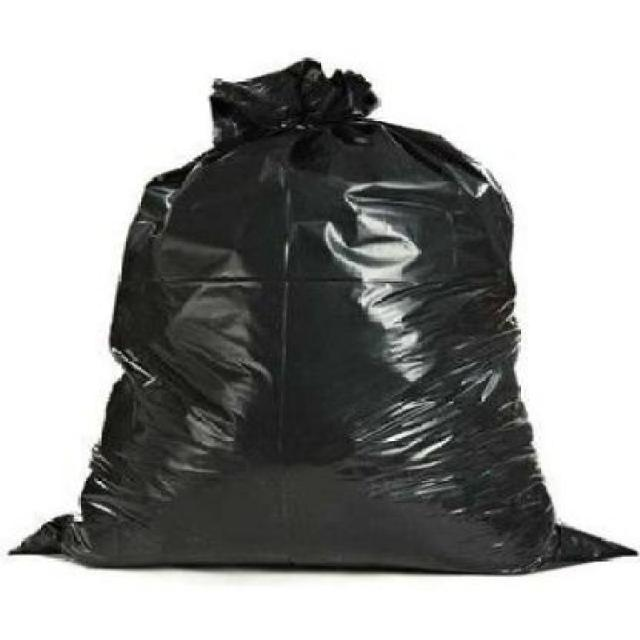Garbage_Bag: (12, 55, 638, 582)
